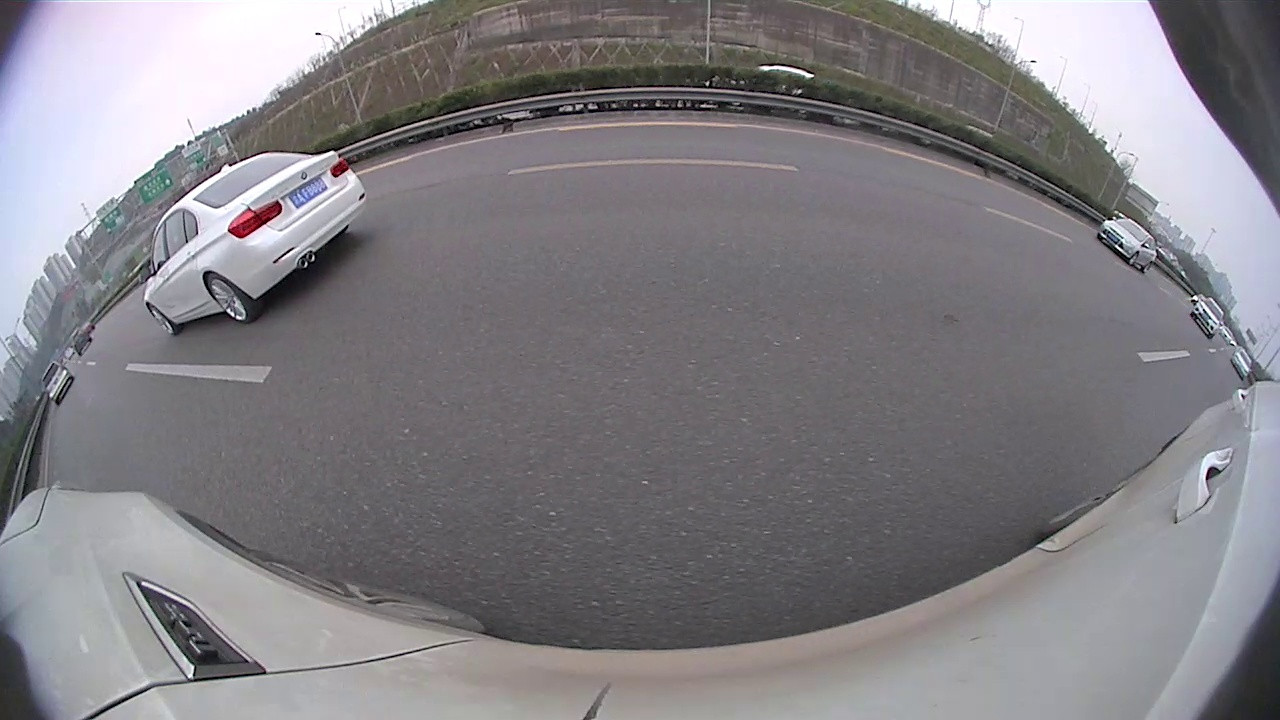car: (142, 149, 368, 338), (1094, 214, 1159, 275), (39, 358, 77, 409), (1189, 295, 1226, 342), (67, 324, 95, 358), (1230, 345, 1255, 381)
front: (147, 302, 175, 336), (1127, 252, 1139, 266)
rear: (206, 274, 251, 325), (1142, 261, 1152, 274)
